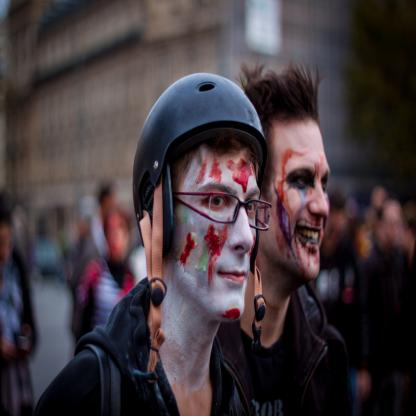Helmet: (138, 82, 273, 240)
